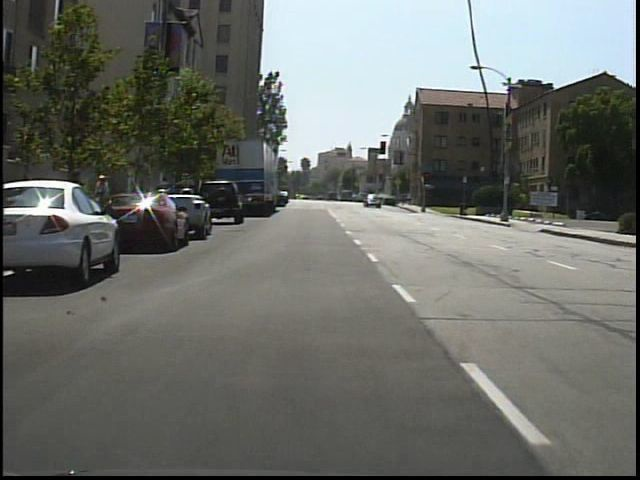person: (68, 166, 93, 229), (94, 171, 117, 225)
